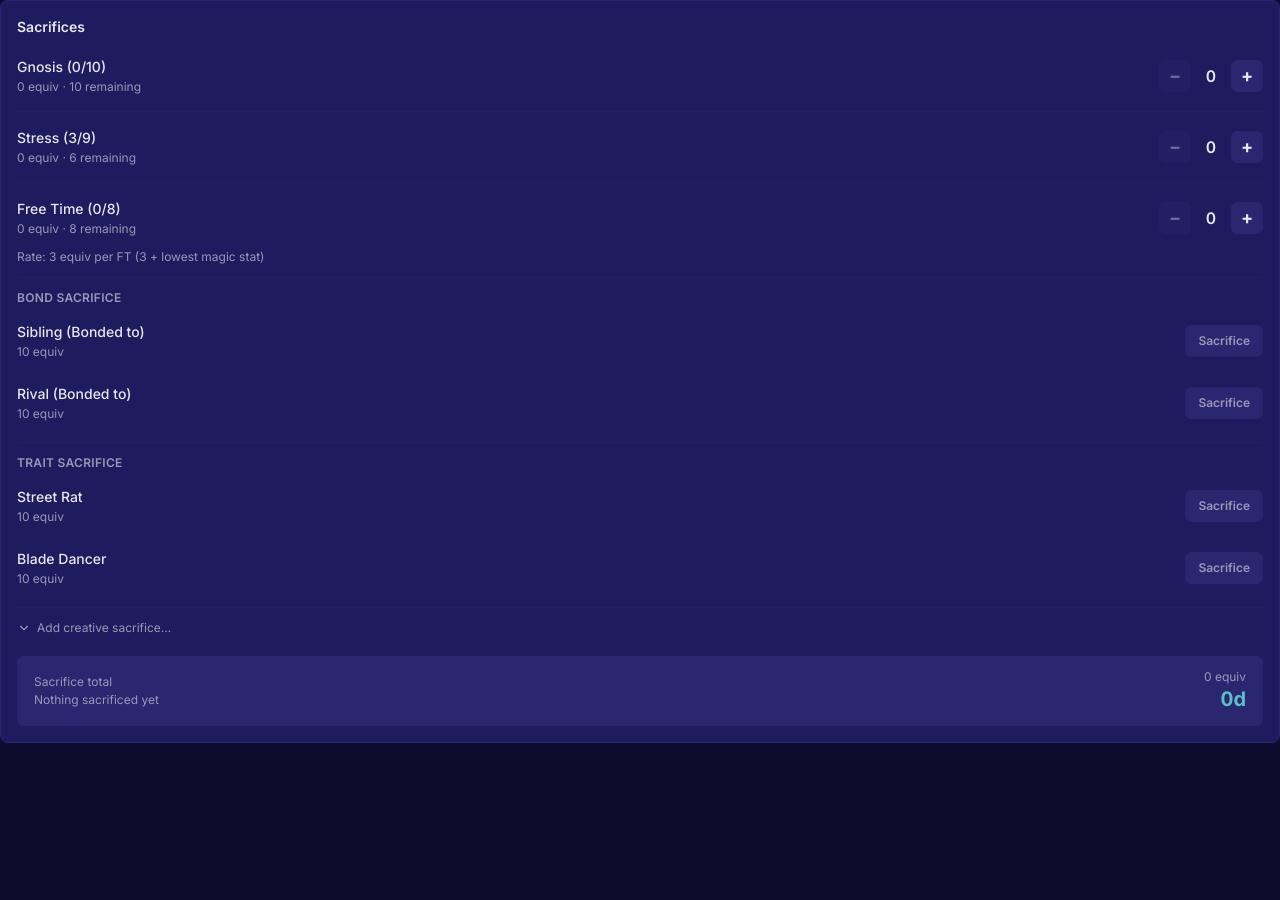
Test case: SacrificeBuilder › creative sacrifice › shows textarea after clicking the link
Click the button "Add creative sacrifice…" at (94, 628), box [17,620,171,636]
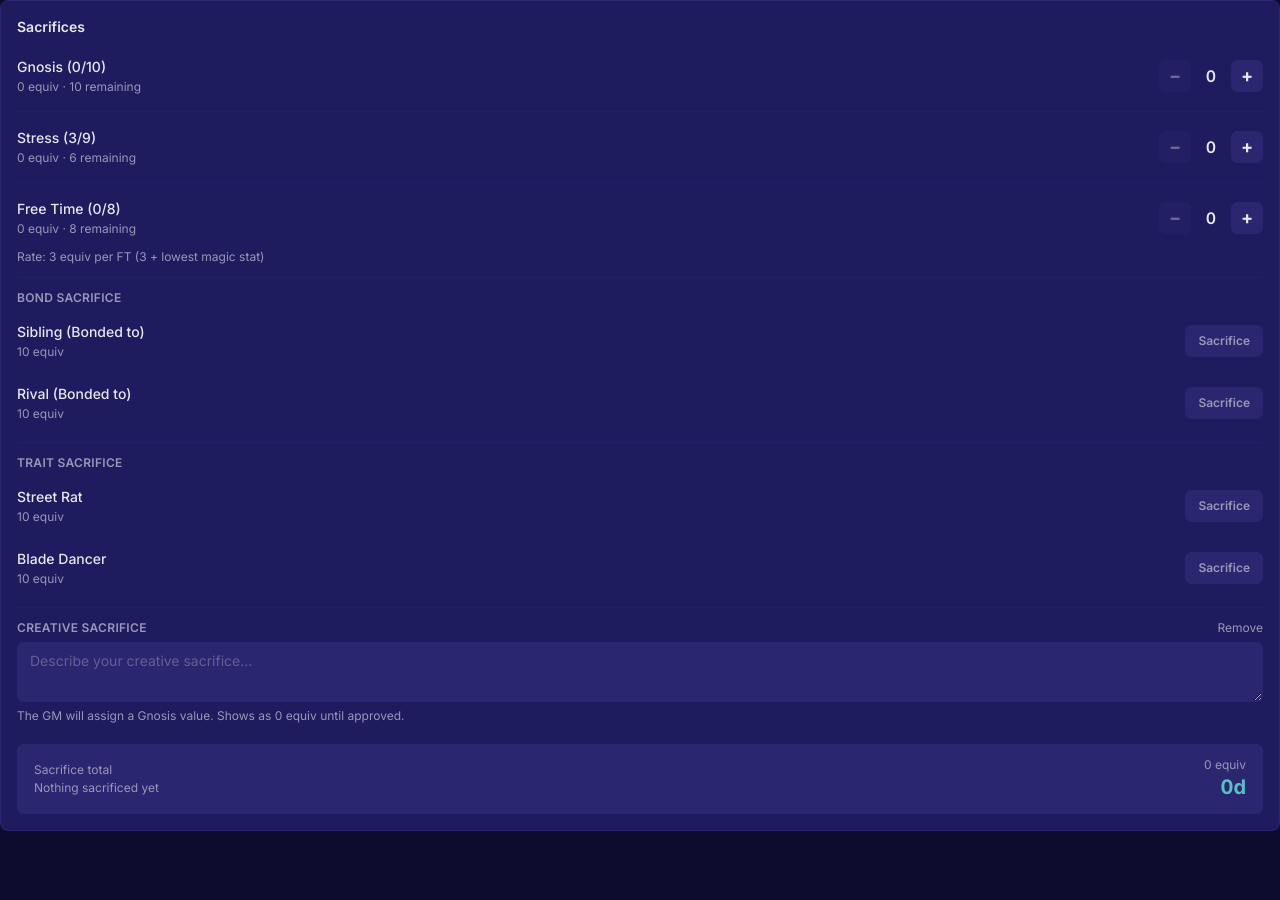
Check: the text box named "Creative sacrifice description" is shown, box [17,642,1263,702]
